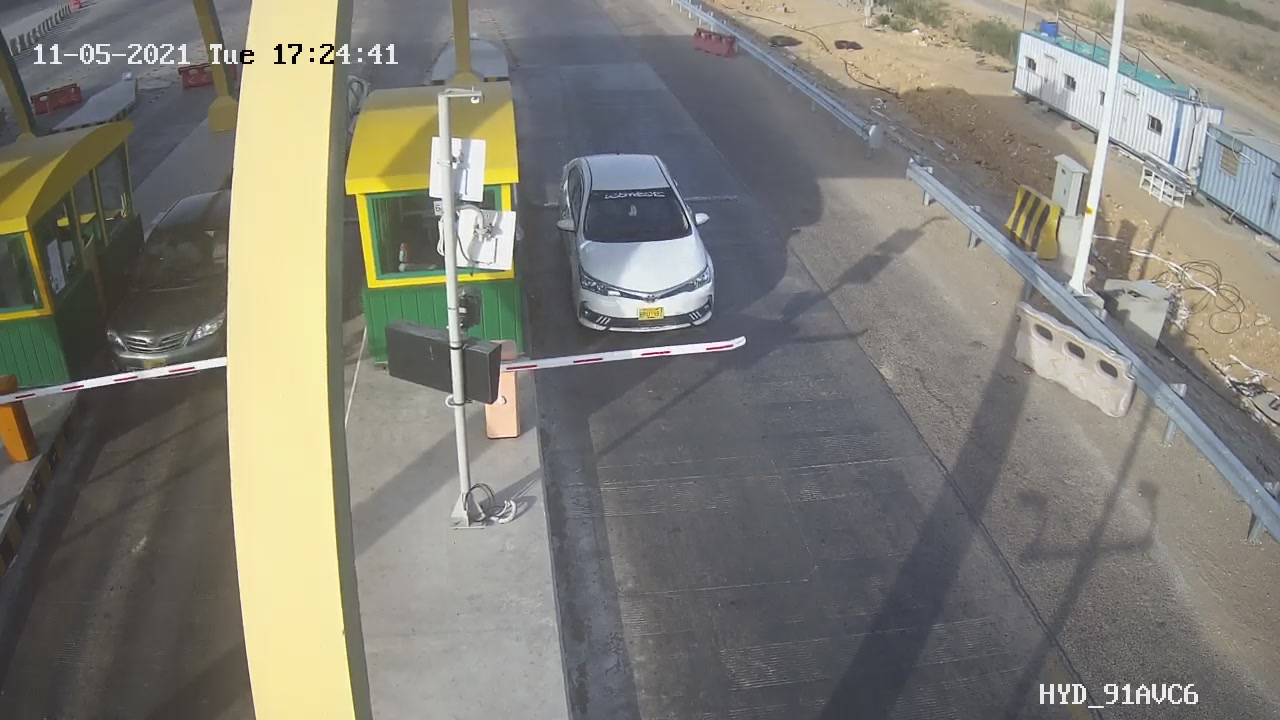F1: (539, 140, 738, 359)
